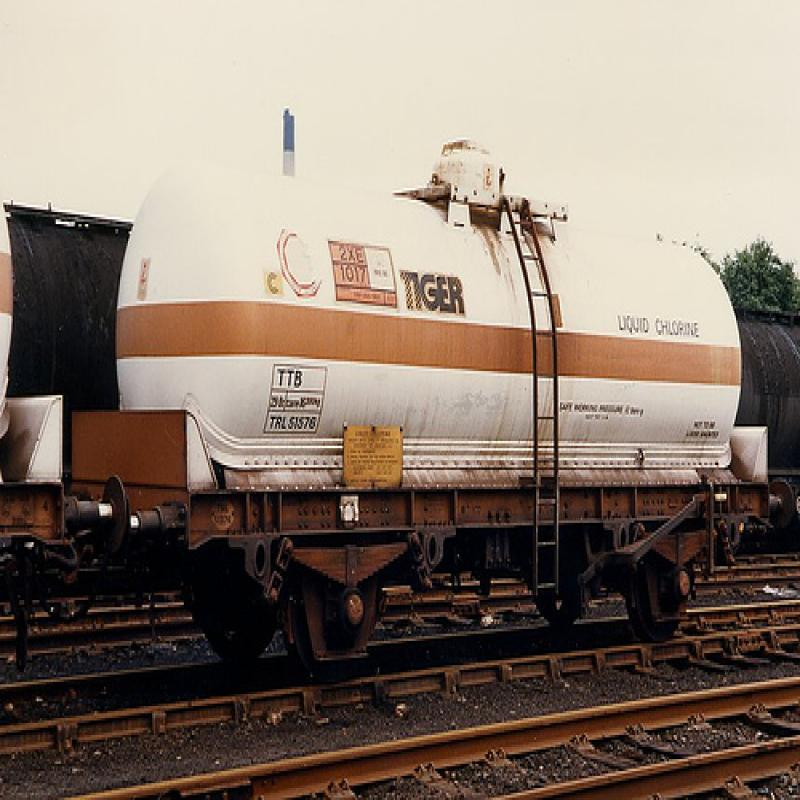train: (6, 131, 772, 681)
